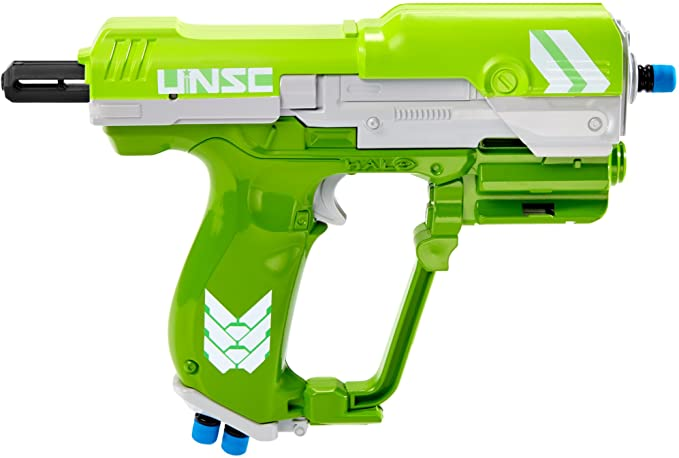Arma Falsa: (2, 1, 679, 454)
